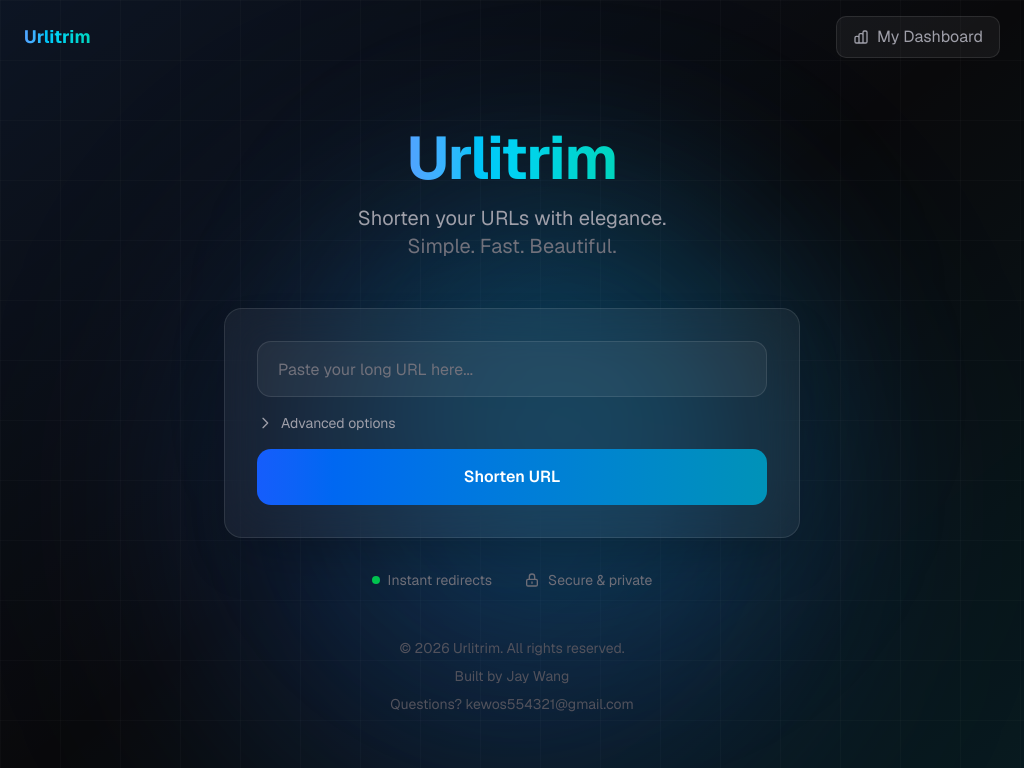
Home Page › should show loading state during submission
Type "https://example.com" into the field with placeholder "Paste your long URL here..." at (512, 369), box x1=257 y1=341 x2=767 y2=397
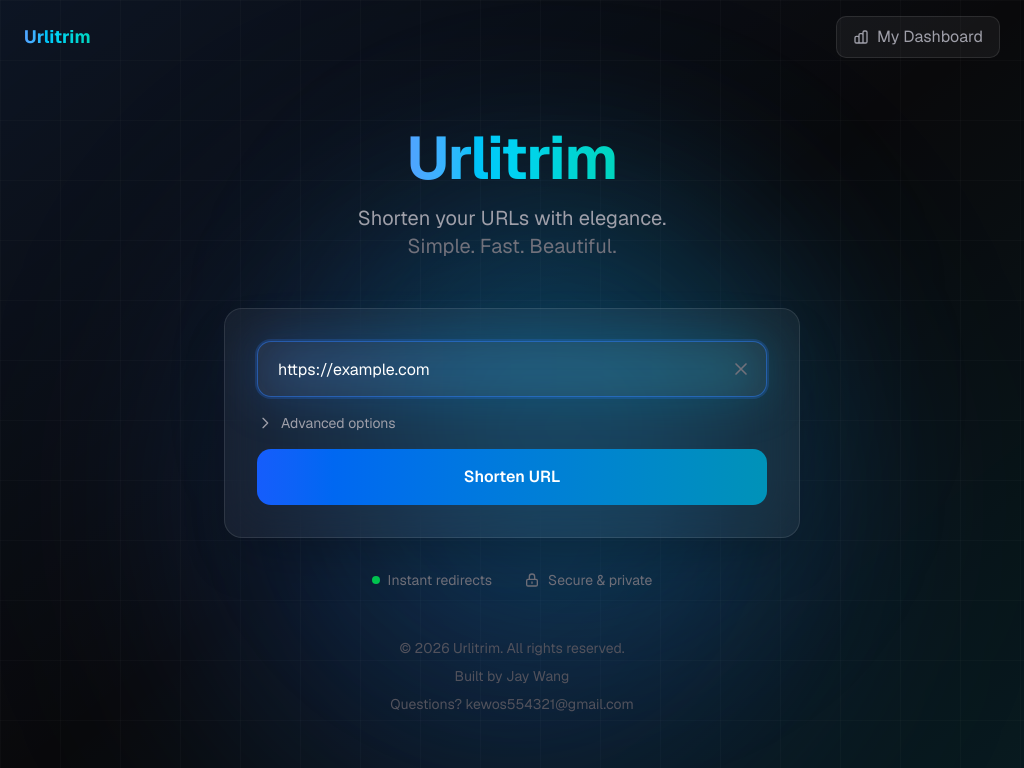
Submit the form with placeholder "Paste your long URL here...", box x1=257 y1=341 x2=767 y2=505
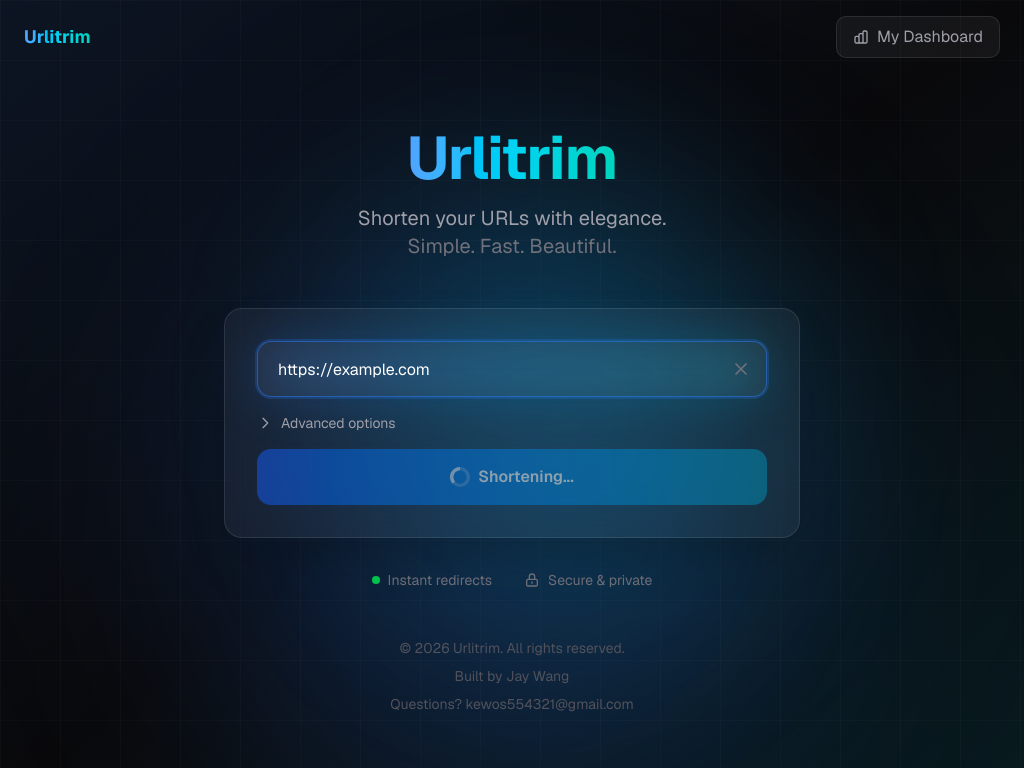
Expected: the text "Shortening..." is shown, x1=450 y1=466 x2=574 y2=487
